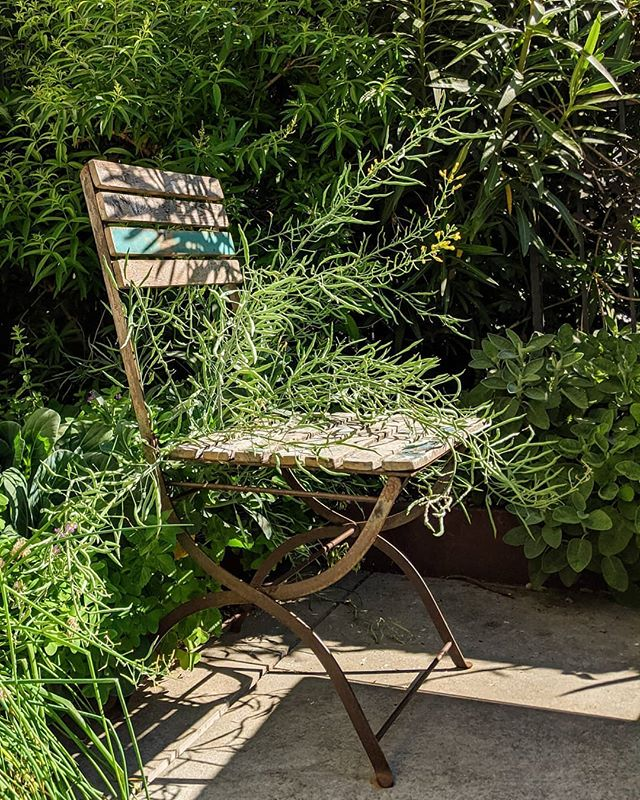chair: (100, 203, 473, 721)
vegetation: (1, 9, 618, 558)
